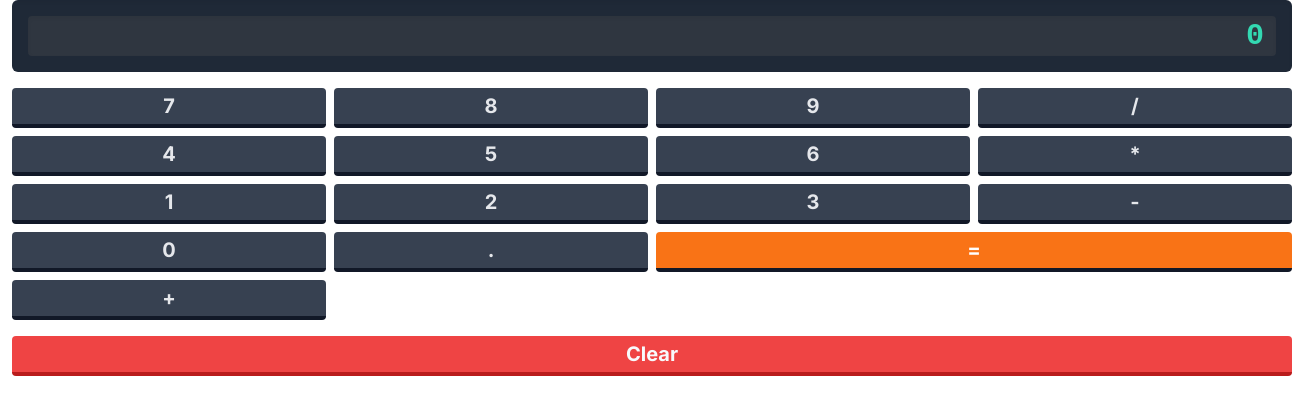
Test: NumbersCalculator › UI Interactions › Button Interactions › should clear display when clear button is pressed
The width and height of the screenshot is (1304, 397).
Click the button "5" at (491, 156), box [334,136,648,176]
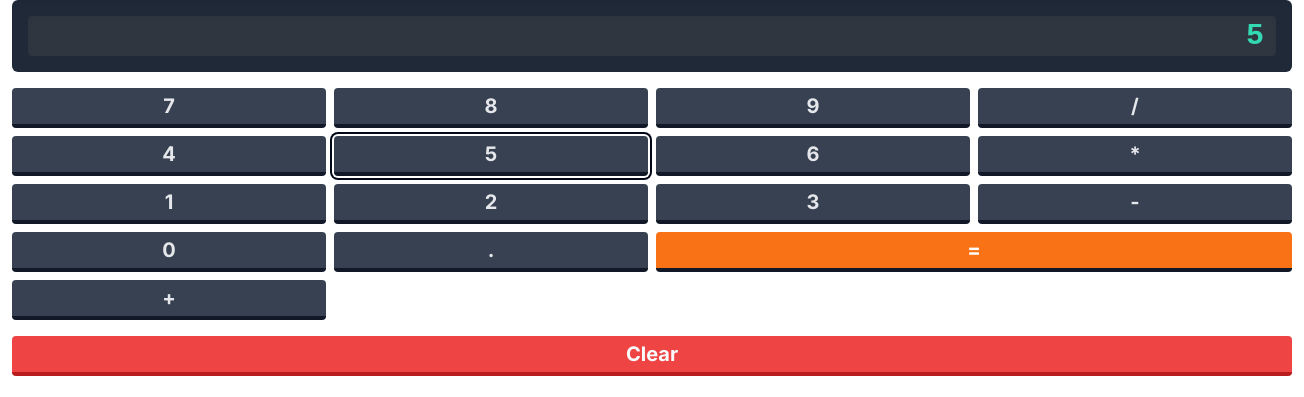
Click the button "Clear" at (652, 356), box [12,336,1292,376]
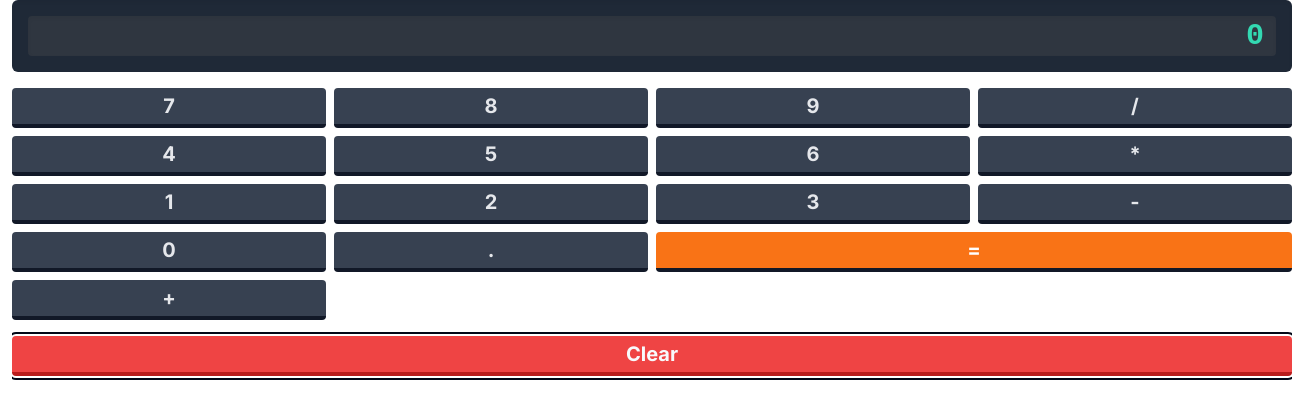
expect the field holds "0": met, box [28,16,1276,56]
